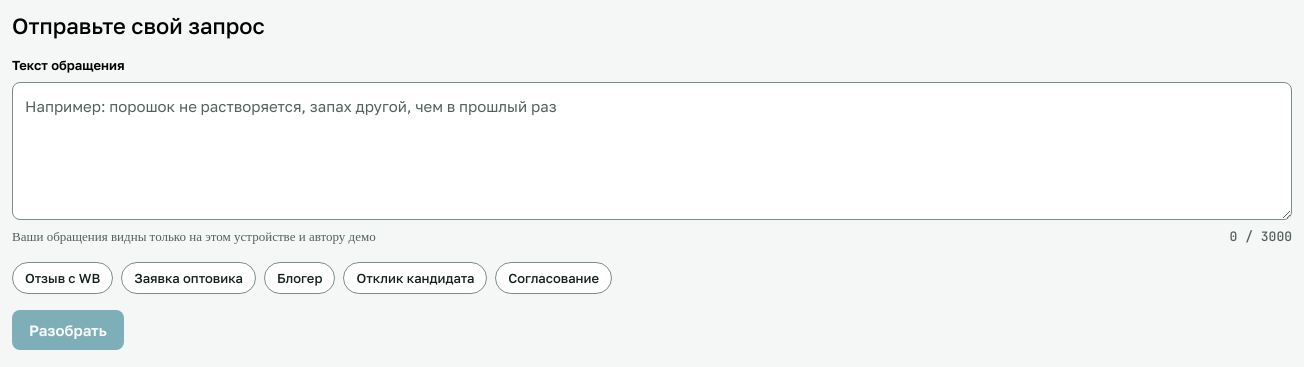
Test case: Triage › показывает счётчик символов и приписку о приватности
Replace the text in the text box labelled "Текст обращения" with "абв" at (652, 151), box [12,82,1292,220]
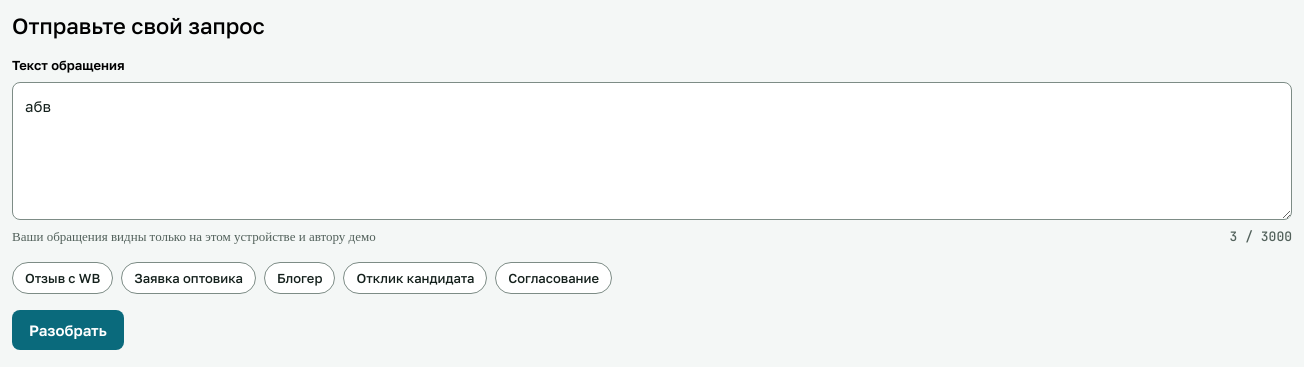
Expected: the text "Ваши обращения видны только на этом устройстве и автору демо" is shown, [12,228,376,246]
Expected: the text "3 / 3000" is shown, [1230,228,1292,246]
